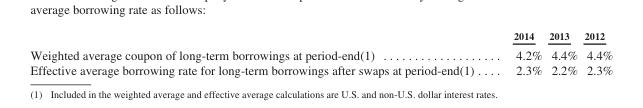table: (29, 29, 612, 76)
table column: (29, 29, 493, 76), (493, 29, 545, 76), (545, 29, 580, 76), (580, 29, 612, 76)
table column header: (29, 29, 612, 44)
table row: (29, 44, 612, 62), (29, 29, 612, 44), (29, 62, 612, 76)
